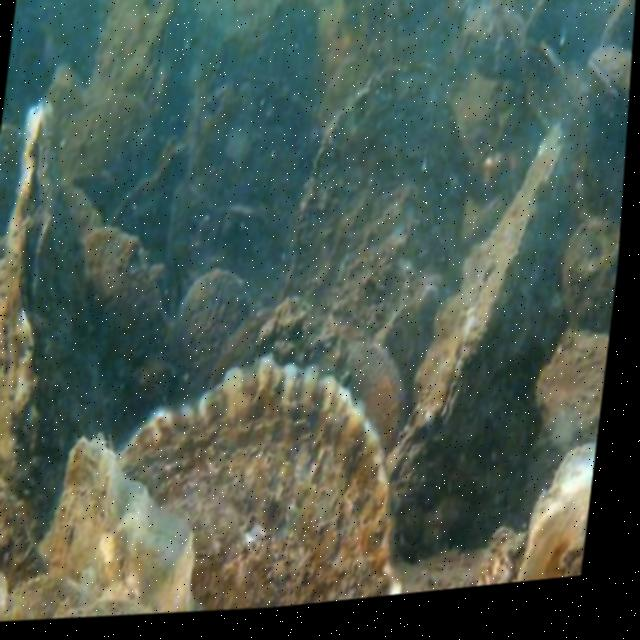Oyster-Closed: (163, 76, 325, 318), (318, 338, 406, 454)
Oyster-Indeterminate: (117, 361, 402, 612), (279, 67, 466, 426), (0, 104, 105, 593), (415, 126, 563, 436), (82, 228, 173, 451), (518, 43, 595, 219), (171, 270, 252, 404), (109, 139, 193, 267), (522, 442, 597, 581), (60, 97, 158, 195), (116, 0, 186, 124), (539, 330, 610, 450), (565, 214, 621, 335), (522, 0, 619, 60), (589, 46, 632, 130), (476, 525, 527, 586), (0, 125, 21, 233), (71, 180, 102, 246)
Oyster-Open: (0, 441, 198, 622)
